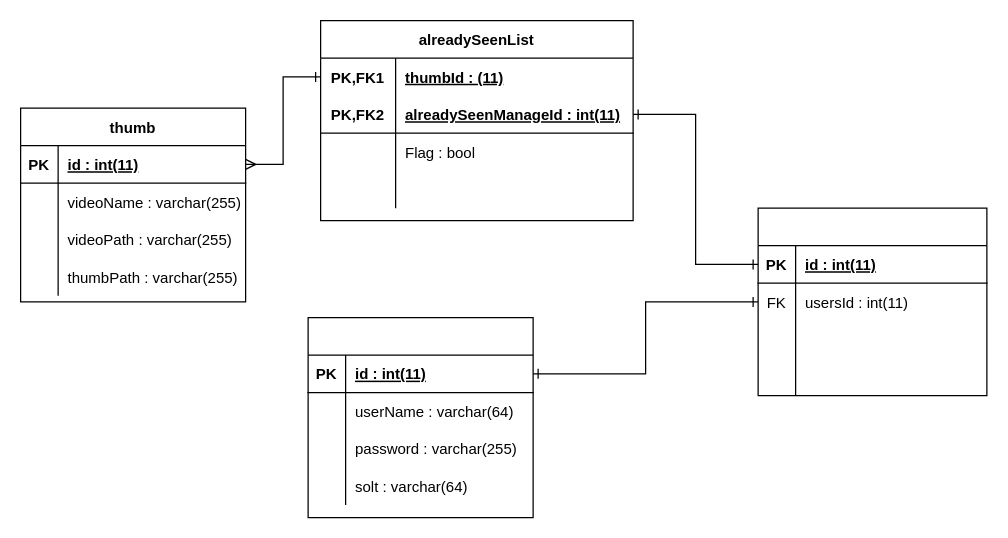
Some shapes in this 1008 by 538 pixel diagram are drawn without their labels. Here are the shapes that lost their labels. From the top down, the box of each, then its label:
(757, 207, 987, 396): alreadySeenManage
(307, 316, 533, 518): Users
